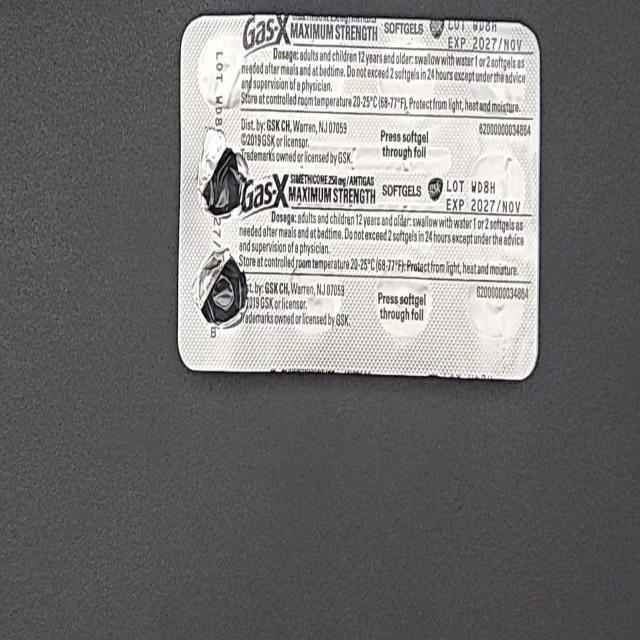defect: (194, 122, 252, 224), (190, 244, 250, 333)
